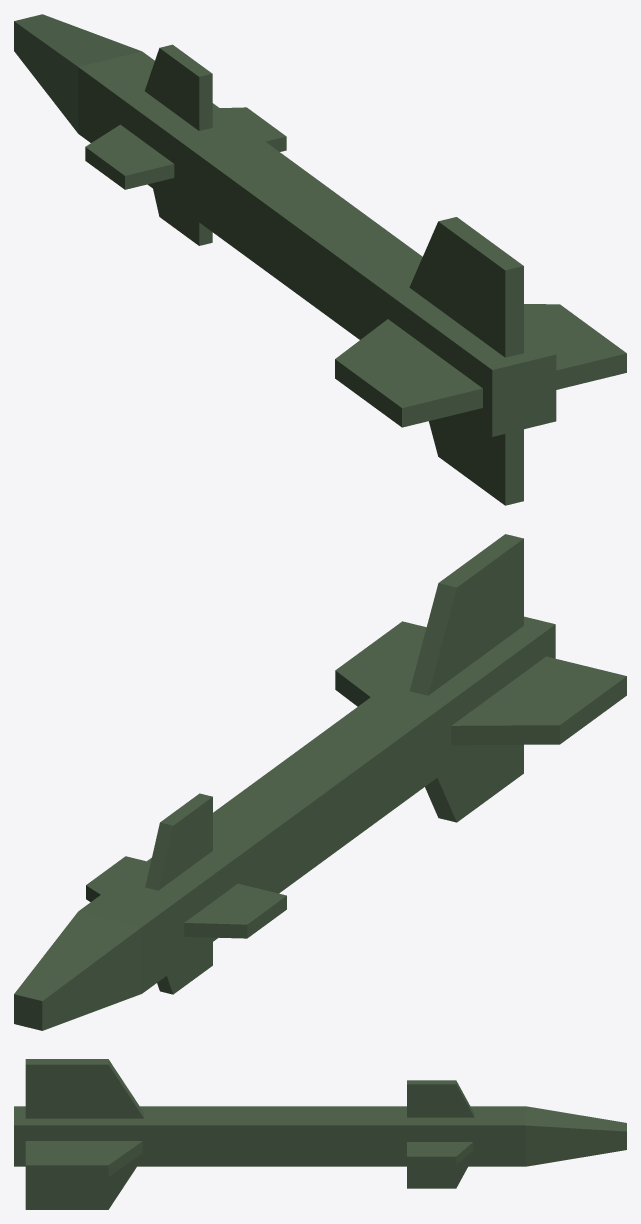
File: Rocket.FBX
3 views of the same model, one above another, from view 1: azimuth 30°, elevation 25°; view 2: azimuth 150°, elevation 25°; view 3: azimuth 270°, elevation 25° (orthographic). The views are drawn at different scales.
Visible parts, largest first — view 1: missile_03; view 2: missile_03; view 3: missile_03.
Part boxes in pixels (x1=…): missile_03: x1=14, y1=14, x2=626, y2=505; missile_03: x1=14, y1=534, x2=626, y2=1030; missile_03: x1=14, y1=1059, x2=626, y2=1209.
Bounding box in the file's own units: 92.65 × 92.65 × 354.
